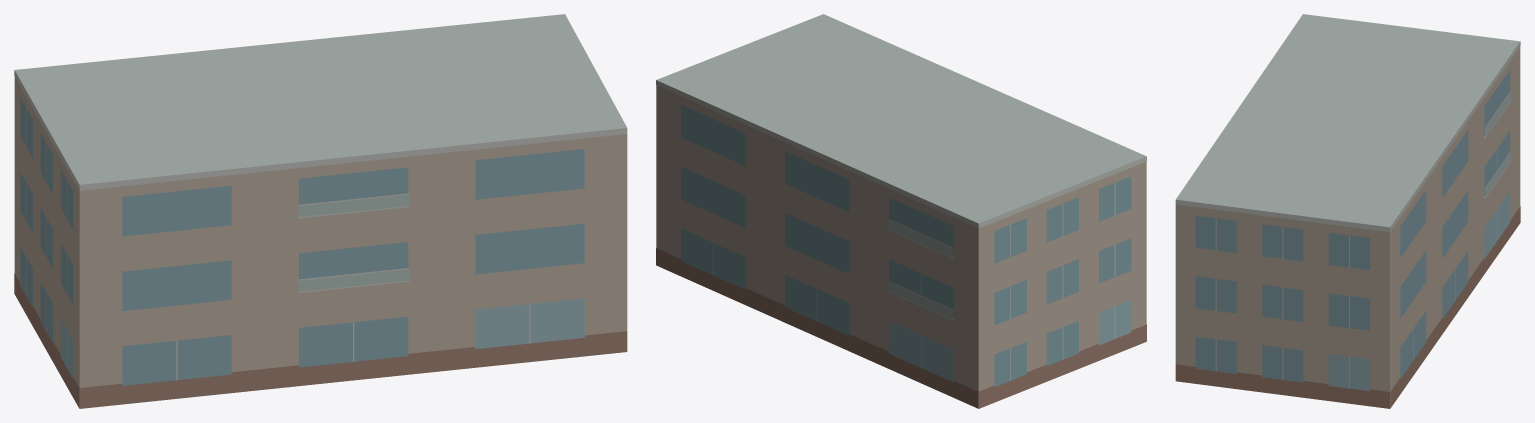
File: survey-upis-32999198.glb
3 renders of one model, left to right at view 1: azimuth 30°, elevation 25°; view 2: azimuth 150°, elevation 25°; view 3: azimuth 270°, elevation 25°, orthographic. The views are drawn at different scales.
Visible parts, largest first — view 1: survey-upis-32999198.tmp; view 2: survey-upis-32999198.tmp; view 3: survey-upis-32999198.tmp.
Part boxes in pixels (left/top/right/bottom): survey-upis-32999198.tmp: left=14, top=14, right=627, bottom=408; survey-upis-32999198.tmp: left=656, top=14, right=1146, bottom=408; survey-upis-32999198.tmp: left=1175, top=14, right=1520, bottom=408.
Size of the model in its own units: 23.06 by 9.15 by 15.76.
